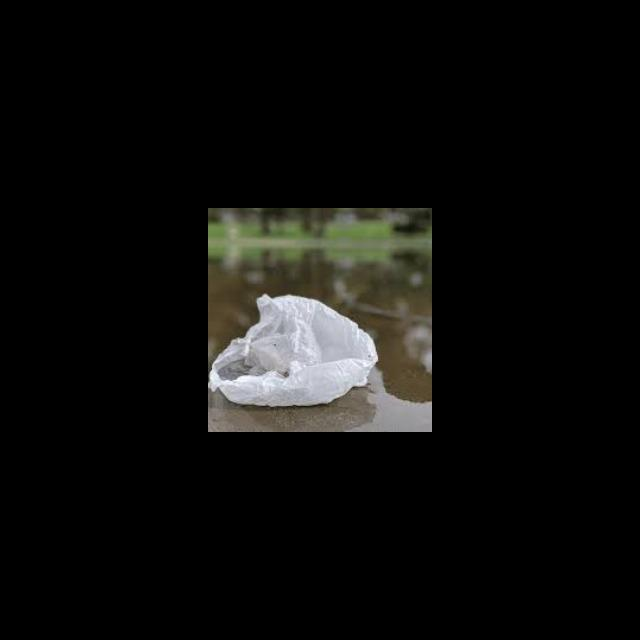plastic: (211, 286, 376, 413)
